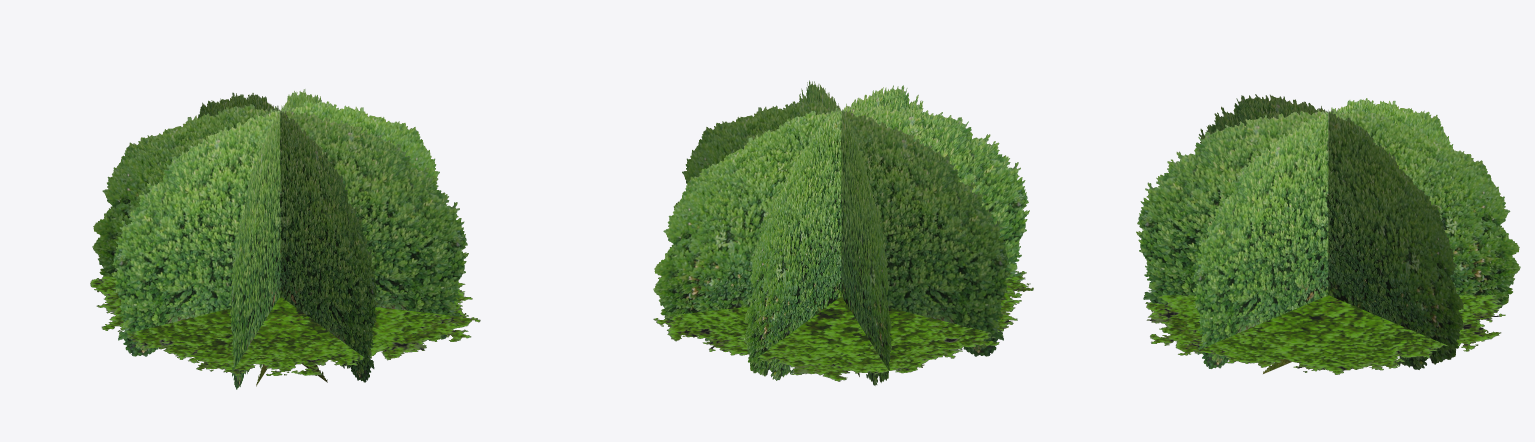
File: bush.fbx
3 views of the same model, side by side, from view 1: azimuth 30°, elevation 25°; view 2: azimuth 150°, elevation 25°; view 3: azimuth 270°, elevation 25° (orthographic).
Parts seen in each view (by area): view 1: bush_side_view_3, bush_side_view_mirror, bush_side_view, bush_side_view_1_mirror, bush_top_view, bush_side_view_2, bush_side_view_3_mirror, bush_side_view_2_mirror; view 2: bush_side_view_mirror, bush_side_view_2, bush_side_view_1, bush_side_view, bush_top_view, bush_side_view_2_mirror, bush_side_view_3_mirror, bush_side_view_3; view 3: bush_side_view_1, bush_side_view_3, bush_side_view_2_mirror, bush_side_view_3_mirror, bush_top_view, bush_side_view_2, bush_side_view_1_mirror.
Part boxes in pixels (bbox=[...]): bush_side_view_3: bbox=[92, 104, 468, 358]; bush_side_view_mirror: bbox=[112, 101, 439, 356]; bush_side_view: bbox=[111, 101, 439, 346]; bush_side_view_1_mirror: bbox=[198, 92, 377, 382]; bush_top_view: bbox=[90, 275, 480, 375]; bush_side_view_2: bbox=[230, 95, 321, 389]; bush_side_view_3_mirror: bbox=[92, 105, 465, 302]; bush_side_view_2_mirror: bbox=[235, 89, 321, 308]; bush_side_view_mirror: bbox=[674, 101, 1009, 367]; bush_side_view_2: bbox=[654, 106, 1029, 300]; bush_side_view_1: bbox=[744, 85, 924, 380]; bush_side_view: bbox=[673, 101, 1010, 367]; bush_top_view: bbox=[653, 270, 1033, 381]; bush_side_view_2_mirror: bbox=[653, 161, 1029, 347]; bush_side_view_3_mirror: bbox=[799, 81, 891, 385]; bush_side_view_3: bbox=[799, 80, 891, 384]; bush_side_view_1: bbox=[1136, 108, 1520, 308]; bush_side_view_3: bbox=[1192, 102, 1453, 373]; bush_side_view_2_mirror: bbox=[1199, 94, 1464, 369]; bush_side_view_3_mirror: bbox=[1192, 98, 1452, 373]; bush_top_view: bbox=[1145, 289, 1505, 374]; bush_side_view_2: bbox=[1196, 96, 1463, 368]; bush_side_view_1_mirror: bbox=[1138, 109, 1519, 282].
Size of the model in its own units: 100 by 72.07 by 100.
